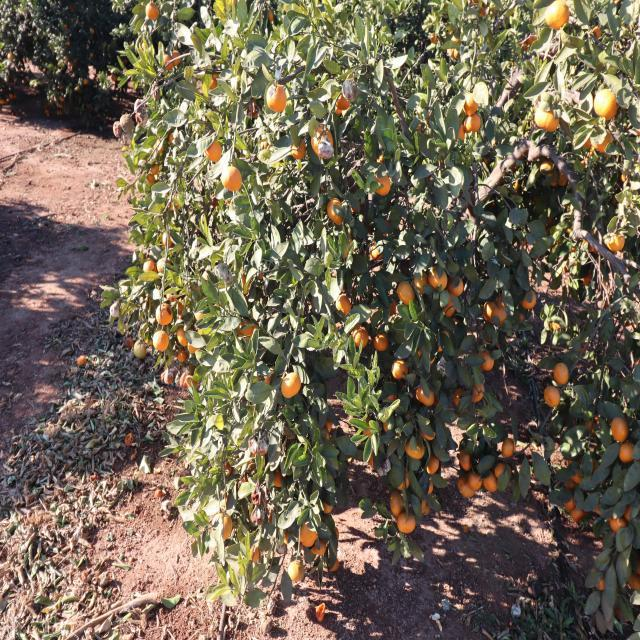Jeruk Sudah Matang: (529, 91, 566, 137), (592, 76, 624, 120), (533, 0, 573, 33), (592, 115, 618, 161), (278, 369, 310, 406), (482, 290, 510, 329), (600, 222, 634, 254), (534, 152, 557, 198), (570, 114, 592, 162), (333, 287, 361, 324), (234, 312, 261, 348), (464, 372, 492, 406), (610, 408, 636, 444), (328, 191, 352, 230), (209, 509, 237, 542), (544, 312, 574, 342), (346, 322, 376, 352), (266, 78, 290, 114), (571, 218, 596, 252), (373, 166, 398, 200), (474, 346, 500, 378), (404, 429, 428, 463), (587, 561, 610, 596), (540, 382, 566, 412), (587, 488, 611, 520), (396, 506, 420, 538), (617, 435, 640, 468), (416, 373, 437, 409), (219, 164, 245, 193), (296, 520, 321, 550), (552, 356, 574, 390), (459, 90, 486, 116), (417, 417, 443, 444), (389, 354, 412, 384), (371, 327, 394, 357), (384, 488, 406, 519), (554, 154, 574, 188), (444, 32, 468, 60), (589, 442, 610, 474), (286, 132, 310, 160), (389, 463, 412, 492), (250, 434, 272, 464), (154, 296, 176, 326), (438, 291, 459, 322), (616, 157, 636, 189), (412, 260, 431, 293), (576, 266, 602, 290), (142, 158, 166, 184), (424, 18, 444, 49), (150, 326, 172, 354), (328, 87, 356, 109), (568, 457, 588, 487), (396, 272, 416, 302), (463, 110, 486, 136), (519, 285, 541, 312), (252, 364, 274, 391), (560, 486, 581, 514), (428, 264, 448, 293), (456, 474, 478, 500), (168, 128, 190, 154), (288, 558, 307, 588), (337, 235, 358, 262), (369, 233, 386, 266), (436, 330, 456, 358), (624, 564, 640, 598), (207, 134, 227, 161), (483, 470, 502, 498), (184, 372, 207, 395), (233, 266, 255, 290), (608, 507, 625, 538), (143, 0, 164, 25), (468, 468, 488, 494), (360, 418, 380, 444), (452, 113, 467, 147), (451, 386, 469, 414), (457, 444, 475, 472), (246, 542, 265, 568), (418, 342, 437, 368), (188, 332, 210, 354), (276, 464, 292, 494), (160, 224, 184, 244), (502, 432, 519, 460), (584, 408, 602, 434), (363, 454, 384, 476), (424, 455, 444, 477), (610, 600, 628, 624), (321, 407, 338, 432), (174, 291, 194, 312), (424, 476, 440, 502), (174, 322, 190, 348), (570, 503, 588, 526), (418, 496, 438, 516), (383, 388, 403, 408), (472, 0, 491, 21), (387, 299, 405, 321), (284, 520, 299, 546), (327, 550, 343, 574), (494, 461, 512, 482), (449, 270, 466, 292), (332, 522, 348, 545), (603, 272, 618, 296), (320, 493, 335, 516), (162, 49, 176, 73), (141, 258, 157, 279), (189, 334, 203, 356), (173, 344, 189, 362), (172, 44, 185, 66), (218, 452, 234, 469), (156, 253, 170, 272), (317, 535, 330, 553), (386, 416, 396, 434), (6, 48, 16, 64), (113, 68, 121, 82), (90, 25, 100, 36), (64, 52, 74, 62), (57, 92, 65, 104), (68, 3, 76, 13), (10, 89, 18, 98), (68, 66, 76, 74), (90, 48, 97, 56), (66, 38, 72, 47), (64, 22, 70, 30), (84, 76, 90, 83), (74, 80, 78, 90)
